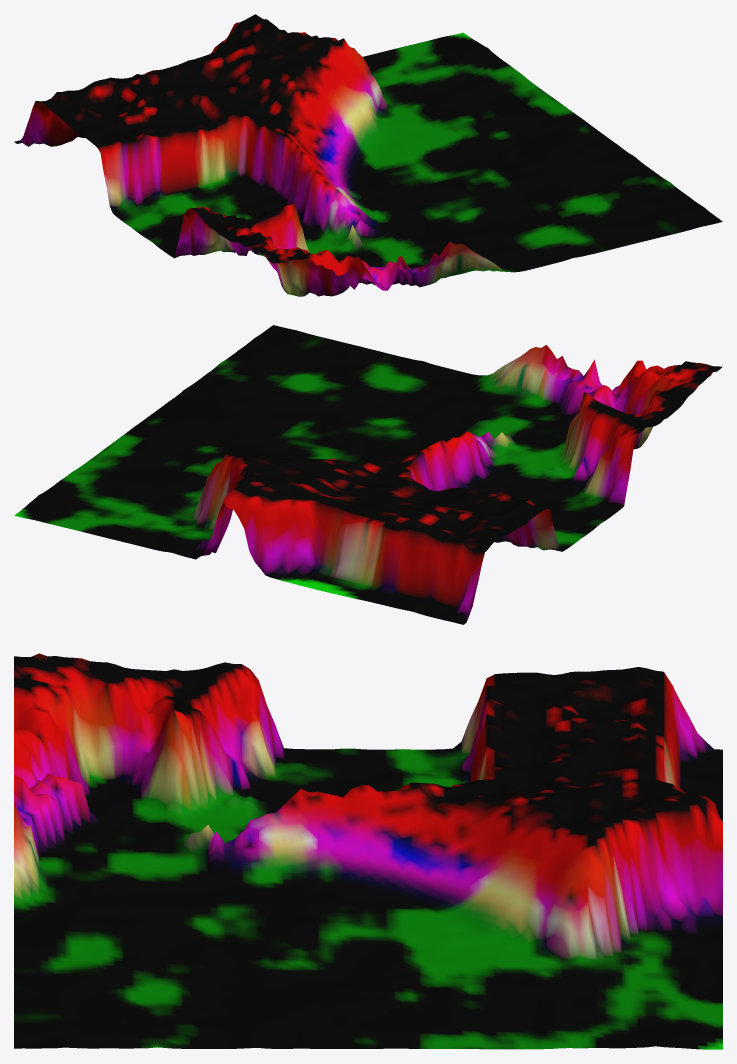
The model's file is SM_AlUla_Terrain_2_2.fbx.
3 renders of one model, top to bottom at view 1: azimuth 30°, elevation 25°; view 2: azimuth 150°, elevation 25°; view 3: azimuth 270°, elevation 25°, orthographic. The views are drawn at different scales.
Visible parts, largest first — view 1: SM_AlUla_Terrain_2_2; view 2: SM_AlUla_Terrain_2_2; view 3: SM_AlUla_Terrain_2_2.
Part boxes in pixels (left/top/right/bottom): SM_AlUla_Terrain_2_2: left=14, top=14, right=722, bottom=296; SM_AlUla_Terrain_2_2: left=14, top=325, right=722, bottom=624; SM_AlUla_Terrain_2_2: left=14, top=653, right=722, bottom=1049.
Size of the model in its own units: 50400 by 8096 by 50400.
